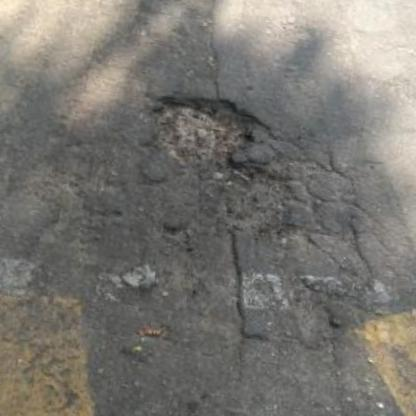pothole: (129, 83, 275, 186), (204, 153, 303, 241), (278, 279, 348, 359)
